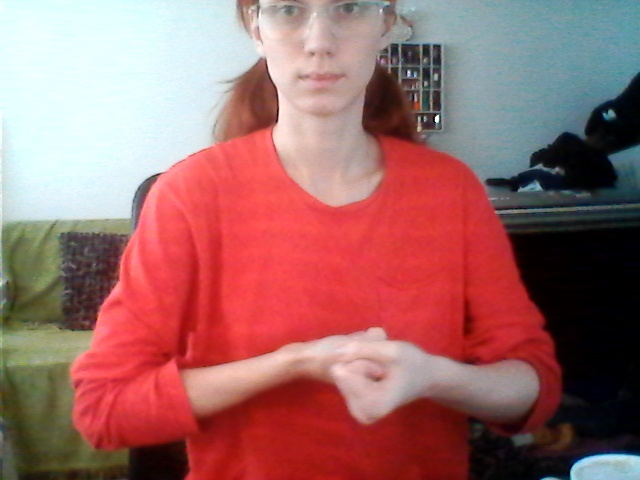hasic: (274, 297, 454, 436)
